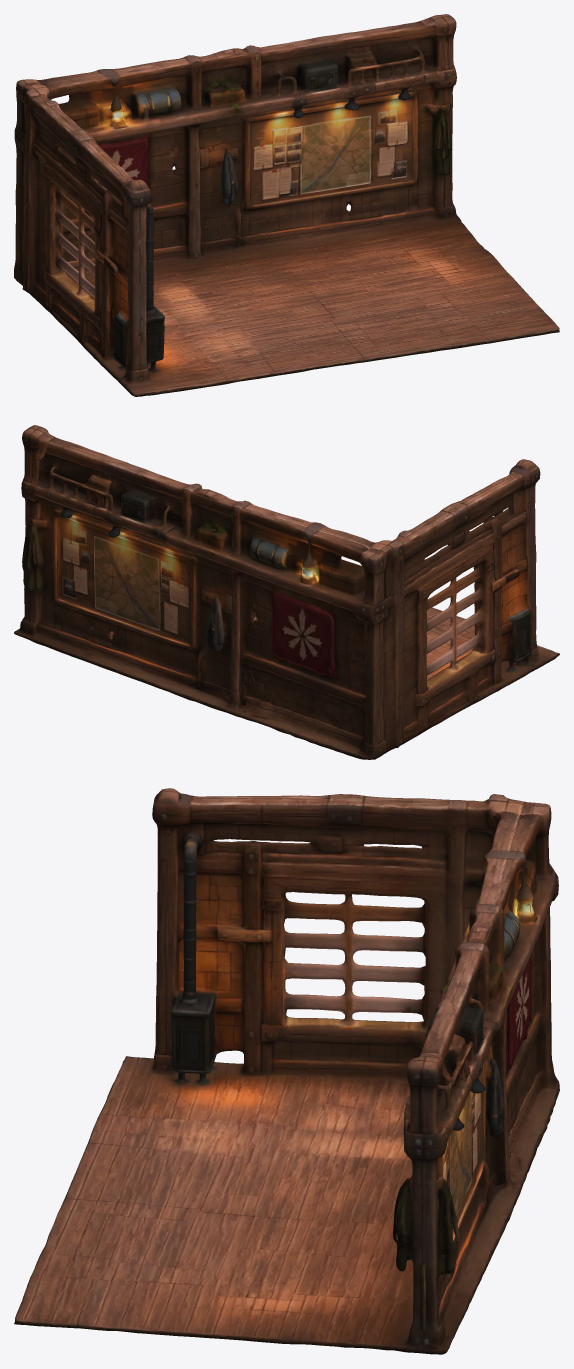
File: wooden_interior.glb
3 renders of one model, top to bottom at view 1: azimuth 30°, elevation 25°; view 2: azimuth 150°, elevation 25°; view 3: azimuth 270°, elevation 25°, orthographic. The views are drawn at different scales.
Parts seen in each view (by area): view 1: tripo_node_011ad306; view 2: tripo_node_011ad306; view 3: tripo_node_011ad306.
Boxes of the visible parts, x1=… form: tripo_node_011ad306: x1=14, y1=14, x2=559, y2=396; tripo_node_011ad306: x1=14, y1=425, x2=559, y2=759; tripo_node_011ad306: x1=14, y1=788, x2=559, y2=1354.
Bounding box in the file's own units: 97.98 × 44.21 × 76.74.
1 material, 1 textured.
